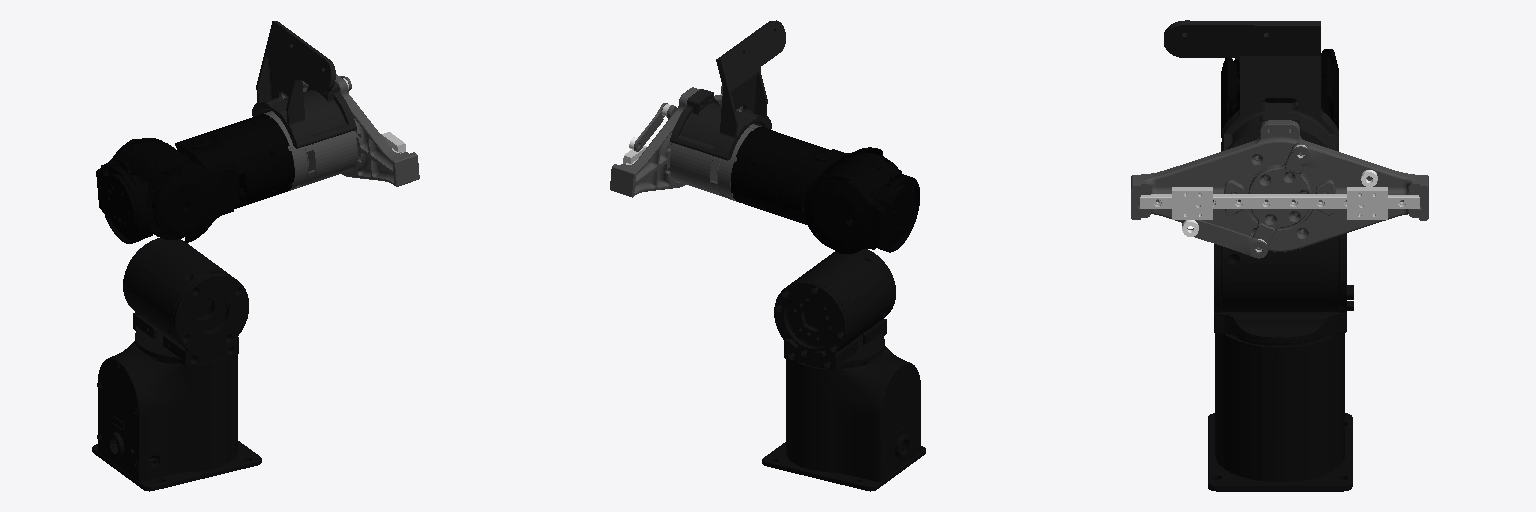
The robot description file, URDF, robot "piper_l_camera":
<?xml version="1.0" ?>
<!-- =================================================================================== -->
<!-- |    This document was autogenerated by xacro from piper_l_description.xacro      | -->
<!-- |    EDITING THIS FILE BY HAND IS NOT RECOMMENDED                                 | -->
<!-- =================================================================================== -->
<!-- This URDF was automatically created by SolidWorks to URDF Exporter! Originally created by [author] ([email redacted]) 
     Commit Version: 1.6.0-4-g7f85cfe  Build Version: 1.6.7995.38578
     For more information, please see http://wiki.ros.org/sw_urdf_exporter -->
<robot name="piper_l_camera">
  <material name="aluminum">
    <color rgba="0.5 0.5 0.5 1"/>
  </material>
  <material name="plastic">
    <color rgba="0.1 0.1 0.1 1"/>
  </material>
  <link name="d435_camera_link"/>
  <!-- camera body, with origin at bottom screw mount -->
  <joint name="camera_joint" type="fixed">
    <origin rpy="0 0 0" xyz="0 0 0"/>
    <parent link="d435_camera_link"/>
    <child link="camera_bottom_screw_frame"/>
  </joint>
  <link name="camera_bottom_screw_frame"/>
  <joint name="camera_link_joint" type="fixed">
    <origin rpy="0 0 0" xyz="0.010600000000000002 0.0175 0.0125"/>
    <parent link="camera_bottom_screw_frame"/>
    <child link="camera_link"/>
  </joint>
  <link name="camera_link">
    <visual>
      <!-- the mesh origin is at front plate in between the two infrared camera axes -->
      <origin rpy="1.5707963267948966 0 1.5707963267948966" xyz="0.0043 -0.0175 0"/>
      <geometry>
        <mesh filename="package://realsense2_description/meshes/d435.dae"/>
      </geometry>
    </visual>
    <collision>
      <origin rpy="0 0 0" xyz="0 -0.0175 0"/>
      <geometry>
        <box size="0.02505 0.09 0.025"/>
      </geometry>
    </collision>
    <inertial>
      <!-- The following are not reliable values, and should not be used for modeling -->
      <mass value="0.072"/>
      <origin xyz="0 0 0"/>
      <inertia ixx="0.003881243" ixy="0.0" ixz="0.0" iyy="0.000498940" iyz="0.0" izz="0.003879257"/>
    </inertial>
  </link>
  <!-- <xacro:if value="${add_plug}">
      <xacro:usb_plug parent="${name}_link" name="${name}_usb_plug">
        <origin xyz="${d435_cam_mount_from_center_offset - 0.02095} ${-d435_cam_depth_py - 0.0353} 0" rpy="0 0 0"/>
      </xacro:usb_plug>
    </xacro:if> -->
  <link name="base_link">
    <inertial>
      <origin rpy="0 0 0" xyz="-0.00868903062596066 -7.81380379250471E-05 0.0446229676471226"/>
      <mass value="0.228506683240186"/>
      <inertia ixx="0.000187231110737863" ixy="-1.08010529187549E-07" ixz="7.71183528612253E-06" iyy="0.000204010911651774" iyz="1.70367399031094E-07" izz="0.00023064619033588"/>
    </inertial>
    <visual>
      <origin rpy="0 0 0" xyz="0 0 0"/>
      <geometry>
        <mesh filename="package://piper_l_description/meshes/dark_dae/base_link.dae"/>
      </geometry>
    </visual>
    <collision>
      <origin rpy="0 0 0" xyz="0 0 0"/>
      <geometry>
        <mesh filename="package://piper_l_description/meshes/dark_dae/base_link.dae"/>
      </geometry>
    </collision>
  </link>
  <link name="Link1">
    <inertial>
      <origin rpy="0 0 0" xyz="0.000817078696798893 0.00114472671573105 -0.00814265146610774"/>
      <mass value="0.104656591084326"/>
      <inertia ixx="3.99694684501781E-05" ixy="2.71846206160129E-07" ixz="1.78275886199695E-07" iyy="5.78589658643876E-05" iyz="1.01977672018063E-07" izz="4.75851844139222E-05"/>
    </inertial>
    <visual>
      <origin rpy="0 0 0" xyz="0 0 0"/>
      <geometry>
        <mesh filename="package://piper_l_description/meshes/dark_dae/link1.dae"/>
      </geometry>
    </visual>
    <collision>
      <origin rpy="0 0 0" xyz="0 0 0"/>
      <geometry>
        <mesh filename="package://piper_l_description/meshes/dark_dae/link1.dae"/>
      </geometry>
    </collision>
  </link>
  <joint name="joint1" type="revolute">
    <origin rpy="0 0 0" xyz="0 0 0.123"/>
    <parent link="base_link"/>
    <child link="Link1"/>
    <axis xyz="0 0 1"/>
    <limit effort="100" lower="-2.618" upper="2.618" velocity="3"/>
  </joint>
  <link name="Link2">
    <inertial>
      <origin rpy="0 0 0" xyz="0.214411452554835 -0.0136807991474291 0.00265923105206891"/>
      <mass value="0.289829779851577"/>
      <inertia ixx="0.000159609737372076" ixy="8.49438511625834E-05" ixz="-8.73341391348404E-07" iyy="0.00182424524515505" iyz="-1.7222217649261E-06" izz="0.00188778950006189"/>
    </inertial>
    <visual>
      <origin rpy="0 0 0" xyz="0 0 0"/>
      <geometry>
        <mesh filename="package://piper_l_description/meshes/dark_dae/link2.dae"/>
      </geometry>
    </visual>
    <collision>
      <origin rpy="0 0 0" xyz="0 0 0"/>
      <geometry>
        <mesh filename="package://piper_l_description/meshes/dark_dae/link2.dae"/>
      </geometry>
    </collision>
  </link>
  <joint name="joint2" type="revolute">
    <origin rpy="1.5708 -0.10598 3.1416" xyz="0 0 0"/>
    <parent link="Link1"/>
    <child link="Link2"/>
    <axis xyz="0 0 1"/>
    <limit effort="100" lower="0" upper="3.14" velocity="3"/>
  </joint>
  <link name="Link3">
    <inertial>
      <origin rpy="0 0 0" xyz="-0.00911397384332024 -0.149791842909887 -0.000591510024110218"/>
      <mass value="0.144963320053385"/>
      <inertia ixx="0.000284000764414434" ixy="6.61776597268393E-06" ixz="3.88642213881568E-07" iyy="4.88134965842348E-05" iyz="8.80027301936097E-07" izz="0.000297733639002112"/>
    </inertial>
    <visual>
      <origin rpy="0 0 0" xyz="0 0 0"/>
      <geometry>
        <mesh filename="package://piper_l_description/meshes/dark_dae/link3.dae"/>
      </geometry>
    </visual>
    <collision>
      <origin rpy="0 0 0" xyz="0 0 0"/>
      <geometry>
        <mesh filename="package://piper_l_description/meshes/dark_dae/link3.dae"/>
      </geometry>
    </collision>
  </link>
  <joint name="joint3" type="revolute">
    <origin rpy="0 0 -1.8325" xyz="0.33823 0 0"/>
    <parent link="Link2"/>
    <child link="Link3"/>
    <axis xyz="0 0 1"/>
    <limit effort="100" lower="-2.697" upper="0" velocity="3"/>
  </joint>
  <link name="Link4">
    <inertial>
      <origin rpy="0 0 0" xyz="0.0010653905699945 0.00476990191039629 -0.00995810184233214"/>
      <mass value="0.063036548689954"/>
      <inertia ixx="1.68358640686144E-05" ixy="-1.51073528999065E-08" ixz="-3.61196055919328E-07" iyy="2.79335598814104E-05" iyz="1.18113194001076E-07" izz="1.85339684805634E-05"/>
    </inertial>
    <visual>
      <origin rpy="0 0 0" xyz="0 0 0"/>
      <geometry>
        <mesh filename="package://piper_l_description/meshes/dark_dae/link4.dae"/>
      </geometry>
    </visual>
    <collision>
      <origin rpy="0 0 0" xyz="0 0 0"/>
      <geometry>
        <mesh filename="package://piper_l_description/meshes/dark_dae/link4.dae"/>
      </geometry>
    </collision>
  </link>
  <joint name="joint4" type="revolute">
    <origin rpy="1.5708 0 0.1557" xyz="0 -0.3215 0"/>
    <parent link="Link3"/>
    <child link="Link4"/>
    <axis xyz="0 0 1"/>
    <limit effort="100" lower="-1.832" upper="1.832" velocity="3"/>
  </joint>
  <link name="Link5">
    <inertial>
      <origin rpy="0 0 0" xyz="-5.62618579153795E-05 -0.0453229588602131 -0.00689048082401968"/>
      <mass value="0.069099989781007"/>
      <inertia ixx="1.94244470320096E-05" ixy="-3.01270043465718E-08" ixz="-1.82908713601451E-08" iyy="2.97665185121334E-05" iyz="1.74803886281955E-07" izz="2.43073597160068E-05"/>
    </inertial>
    <visual>
      <origin rpy="0 0 0" xyz="0 0 0"/>
      <geometry>
        <mesh filename="package://piper_l_description/meshes/dark_dae/link5.dae"/>
      </geometry>
    </visual>
    <collision>
      <origin rpy="0 0 0" xyz="0 0 0"/>
      <geometry>
        <mesh filename="package://piper_l_description/meshes/dark_dae/link5.dae"/>
      </geometry>
    </collision>
  </link>
  <joint name="joint5" type="revolute">
    <origin rpy="-1.5708 -0.087272 0" xyz="0 0 0"/>
    <parent link="Link4"/>
    <child link="Link5"/>
    <axis xyz="0 0 -1"/>
    <limit effort="100" lower="-1.22" upper="1.22" velocity="3"/>
  </joint>
  <link name="Link6">
    <inertial>
      <origin rpy="0 0 0" xyz="-3.49720252756924E-15 -3.47851379593264E-06 -0.00315807577104896"/>
      <mass value="0.00563228459599247"/>
      <inertia ixx="5.13060019382932E-07" ixy="-1.55709158367416E-20" ixz="1.27617424904681E-19" iyy="5.13060019383189E-07" iyz="6.20132760426175E-20" izz="9.81761489300716E-07"/>
    </inertial>
    <visual>
      <origin rpy="-1.57 0 1.57" xyz="0.008 -0.002 0.064"/>
      <geometry>
        <mesh filename="package://piper_l_description/meshes/dae/gripper_base_100_v3.dae" scale="1 1 1"/>
      </geometry>
    </visual>
    <collision>
      <origin rpy="-1.57 0 1.57" xyz="0.008 -0.002 0.064"/>
      <geometry>
        <mesh filename="package://piper_l_description/meshes/dae/gripper_base_100_v3.dae" scale="1 1 1"/>
      </geometry>
    </collision>
  </link>
  <joint name="joint6" type="revolute">
    <origin rpy="1.5708 0 0" xyz="0 -0.091 0"/>
    <parent link="Link5"/>
    <child link="Link6"/>
    <axis xyz="0 0 1"/>
    <limit effort="100" lower="-3.14" upper="3.14" velocity="3"/>
  </joint>
  <link name="Link7">
    <visual>
      <geometry>
        <mesh filename="package://piper_l_description/meshes/dae/link7.dae"/>
      </geometry>
    </visual>
    <collision>
      <geometry>
        <mesh filename="package://piper_l_description/meshes/dae/link7.dae"/>
      </geometry>
    </collision>
    <inertial>
      <mass value="0.0"/>
      <origin rpy="0.0 0.0 0.0" xyz="0.0 0.0 0.0"/>
      <inertia ixx="0.0" ixy="0.0" ixz="0.0" iyy="0.0" iyz="0.0" izz="0.0"/>
    </inertial>
  </link>
  <joint name="joint7" type="prismatic">
    <origin rpy="1.5708 0 0" xyz="0 0 0.13503"/>
    <parent link="Link6"/>
    <child link="Link7"/>
    <axis xyz="0 0 -1"/>
    <limit effort="100" lower="0" upper="0.05" velocity="1"/>
  </joint>
  <link name="Link8">
    <inertial>
      <origin rpy="0 0 0" xyz="0.000277816920932317 0.0467673824063769 -0.00921030054508036"/>
      <mass value="0.0264822021416248"/>
      <inertia ixx="9.99779119357223E-06" ixy="-1.57542283433504E-07" ixz="2.71367446701359E-08" iyy="6.17952441557932E-06" iyz="1.58939319453383E-06" izz="1.4210192754512E-05"/>
    </inertial>
    <visual>
      <origin rpy="0 0 0" xyz="0 0 0"/>
      <geometry>
        <mesh filename="package://piper_l_description/meshes/dae/link8.dae"/>
      </geometry>
    </visual>
    <collision>
      <origin rpy="0 0 0" xyz="0 0 0"/>
      <geometry>
        <mesh filename="package://piper_l_description/meshes/dae/link8.dae"/>
      </geometry>
    </collision>
  </link>
  <joint name="joint8" type="prismatic">
    <origin rpy="-1.5708 0 0" xyz="0 0 0.13503"/>
    <parent link="Link6"/>
    <child link="Link8"/>
    <axis xyz="0 0 1"/>
    <limit effort="100" lower="-0.05" upper="0" velocity="1"/>
  </joint>
  <link name="camera_stand_link">
    <inertial>
      <origin rpy="0.0 0.0 0.0" xyz="0.0 0.0 0.0"/>
      <mass value="0.0"/>
      <inertia ixx="0.0" ixy="0.0" ixz="0.0" iyy="0.0" iyz="0.0" izz="0.0"/>
    </inertial>
    <visual name="">
      <origin rpy="0.0 3.14 1.57" xyz="0.0 0.0 0.0"/>
      <geometry>
        <mesh filename="package://piper_l_description/meshes/dae/realsense_mid_stand_v2.dae"/>
      </geometry>
    </visual>
    <collision>
      <origin rpy="0.0 0.0 0.0" xyz="0.0 0.0 0.0"/>
      <geometry>
        <mesh filename="package://piper_l_description/meshes/dae/realsense_mid_stand_v2.dae"/>
      </geometry>
    </collision>
  </link>
  <joint name="camera_stand_joint" type="fixed">
    <origin rpy="0 0 0" xyz="-0.034 -0.002 0.023"/>
    <parent link="Link6"/>
    <child link="camera_stand_link"/>
    <axis xyz="0.0 0.0 0.0"/>
    <limit effort="0.0" lower="0.0" upper="0.0" velocity="0.0"/>
  </joint>
  <joint name="d435_camera_joint" type="fixed">
    <origin rpy="0.0 -1.22 0" xyz="-0.032 -0.028 0.0"/>
    <parent link="camera_stand_link"/>
    <child link="d435_camera_link"/>
    <axis xyz="0.0 0.0 0.0"/>
    <limit effort="0.0" lower="0.0" upper="0.0" velocity="0.0"/>
  </joint>
</robot>

--- What the picture shows (computed from the rendered views, not written in the file) ---
Views: 3 orthographic renders of the robot side by side, from view 1: azimuth 30°, elevation 25°; view 2: azimuth 150°, elevation 25°; view 3: azimuth 270°, elevation 25°.
Robot: piper_l_camera — 13 links, 12 joints (6 revolute, 2 prismatic, 4 fixed); root link base_link; default pose: all joints at 0.
Visible links, largest first — view 1: base_link, Link1, Link5, camera_stand_link, Link6, Link4; view 2: base_link, Link1, Link4, camera_stand_link, Link5, Link6; view 3: Link6, base_link, camera_stand_link, Link1, Link5, Link4.
Boxes of the visible links, x1,y1,x2,y2 form: base_link: [92, 341, 261, 491]; Link1: [123, 238, 248, 365]; Link5: [152, 114, 294, 242]; camera_stand_link: [252, 21, 356, 148]; Link6: [264, 74, 419, 190]; Link4: [96, 138, 194, 243]; base_link: [762, 346, 925, 491]; Link1: [774, 249, 895, 370]; Link4: [804, 152, 919, 254]; camera_stand_link: [670, 20, 785, 160]; Link5: [731, 127, 898, 224]; Link6: [610, 86, 760, 201]; Link6: [1131, 120, 1428, 258]; base_link: [1208, 333, 1352, 491]; camera_stand_link: [1164, 20, 1338, 151]; Link1: [1214, 233, 1353, 345]; Link5: [1221, 58, 1331, 137]; Link4: [1234, 49, 1338, 129].
Bounding box of the posed robot: 0.2024 × 0.164 × 0.3068 m (x, y, z).
6 mesh visuals loaded from 11 distinct referenced files (6 Collada DAE); not drawn: 5 (reference not matched to a file when rendering).
